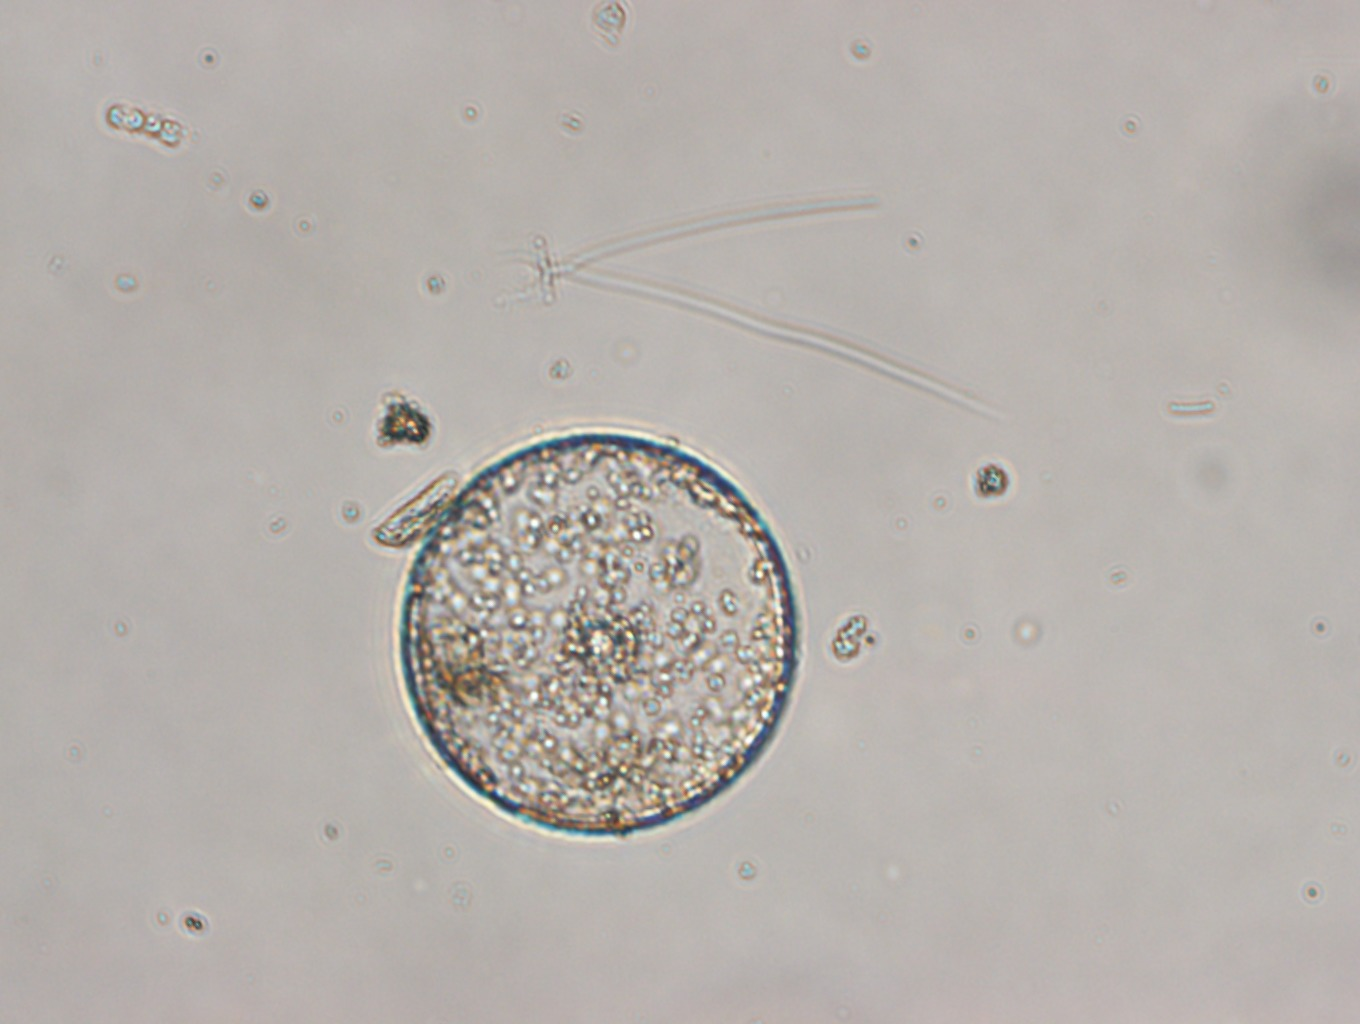coscinodiscus: (399, 433, 797, 836)
